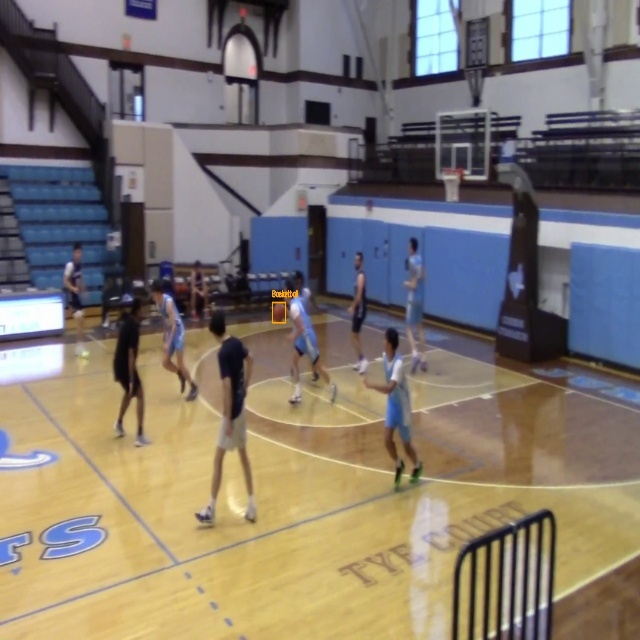Basketball: (272, 302, 286, 322)
